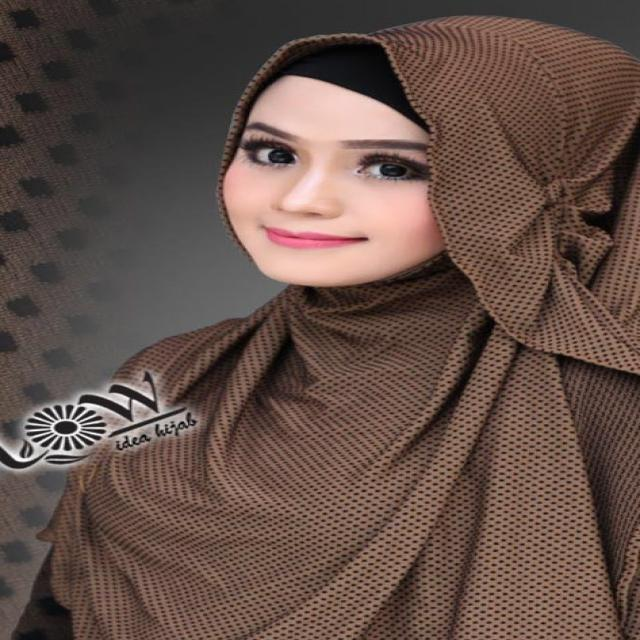head: (223, 21, 618, 291)
